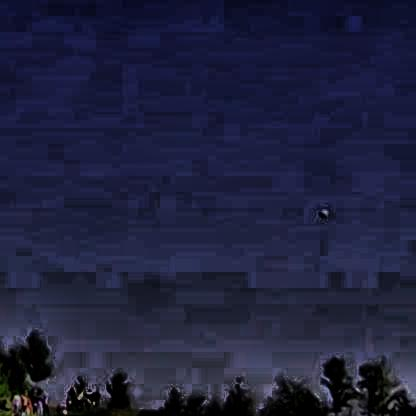golfball: (315, 207, 325, 215)
